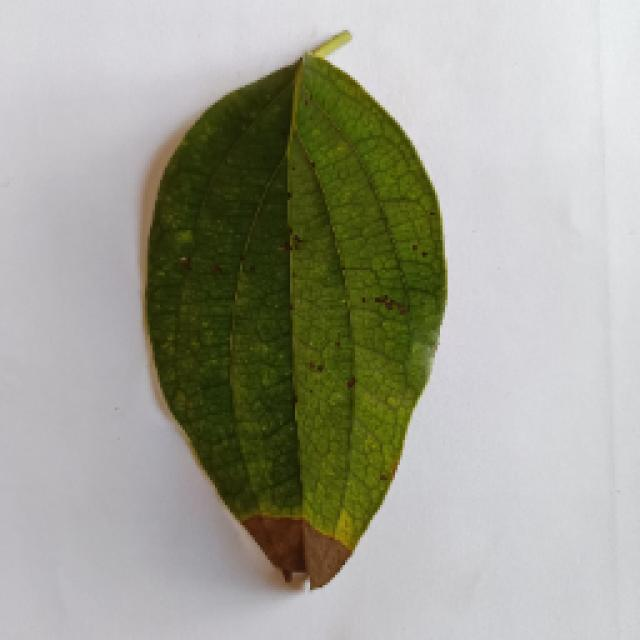footrot: (130, 38, 458, 588)
